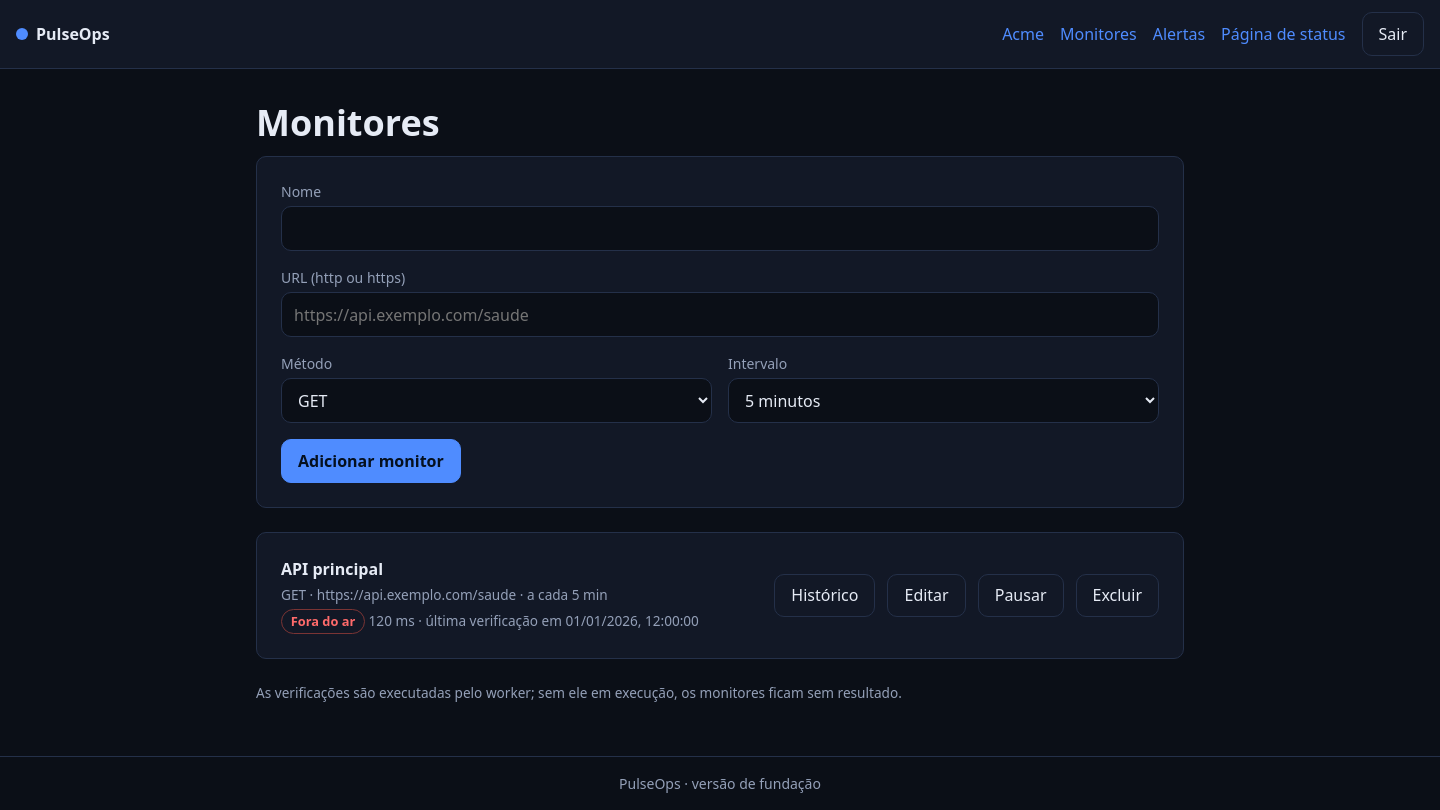
it: MonitorsPage › mostra o status e a latência da última verificação e abre o histórico
expect the text "Fora do ar" is shown: met, box [281,609,365,634]
expect the text "120 ms" is shown: met, box [369,611,425,630]
Click the button "Histórico". click: (825, 595)
box: [774,574,876,617]
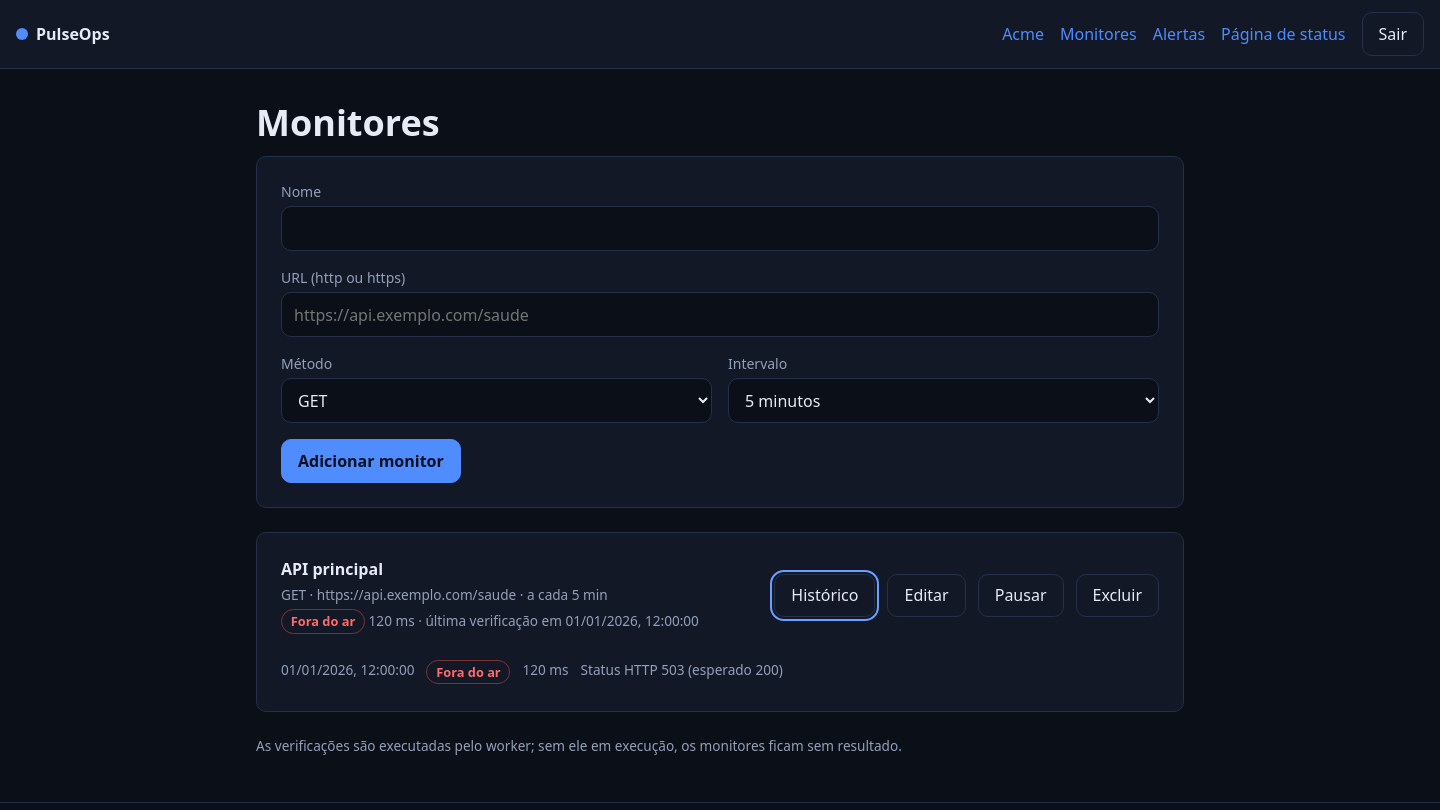
expect the list named "Histórico de verificações" shows "Status HTTP 503": met, box [581,660,783,679]
